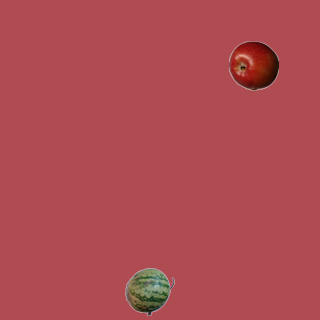Apple Braeburn: (228, 40, 278, 90)
Watermelon: (124, 266, 174, 316)
